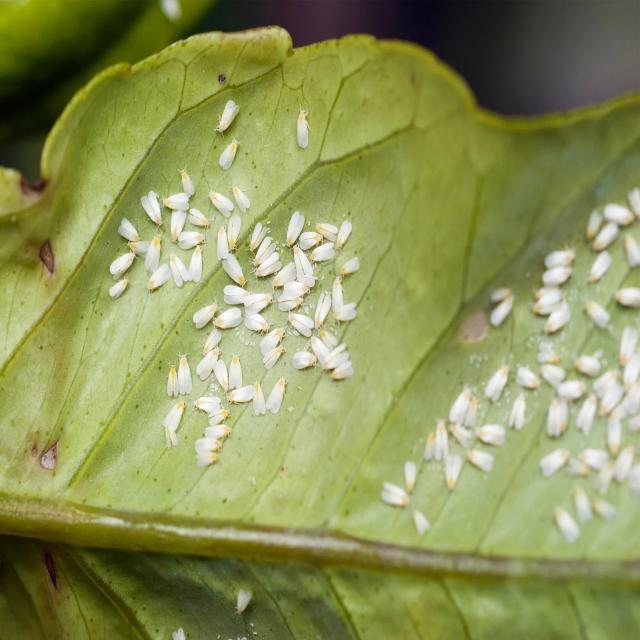Whitefly: (104, 71, 369, 476), (368, 164, 640, 558), (286, 94, 322, 164)
